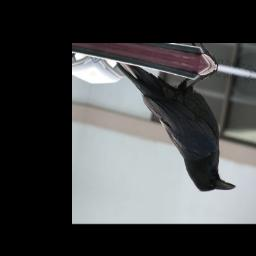Crow: (95, 49, 256, 199)
